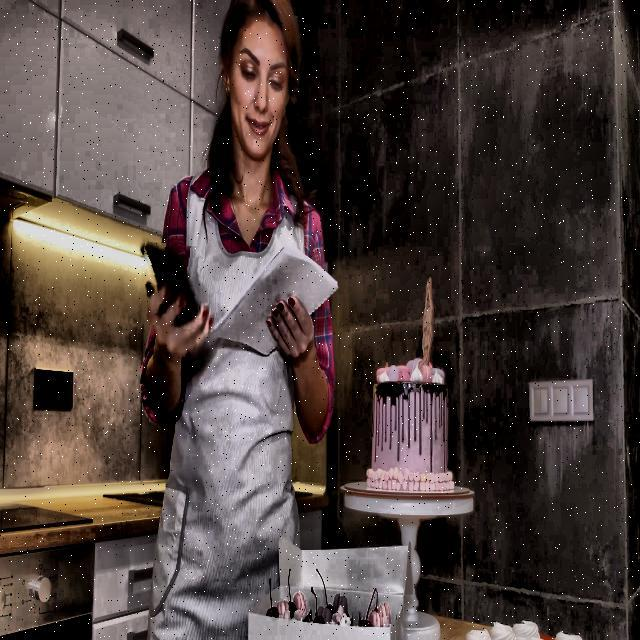Phone: (138, 243, 203, 328)
